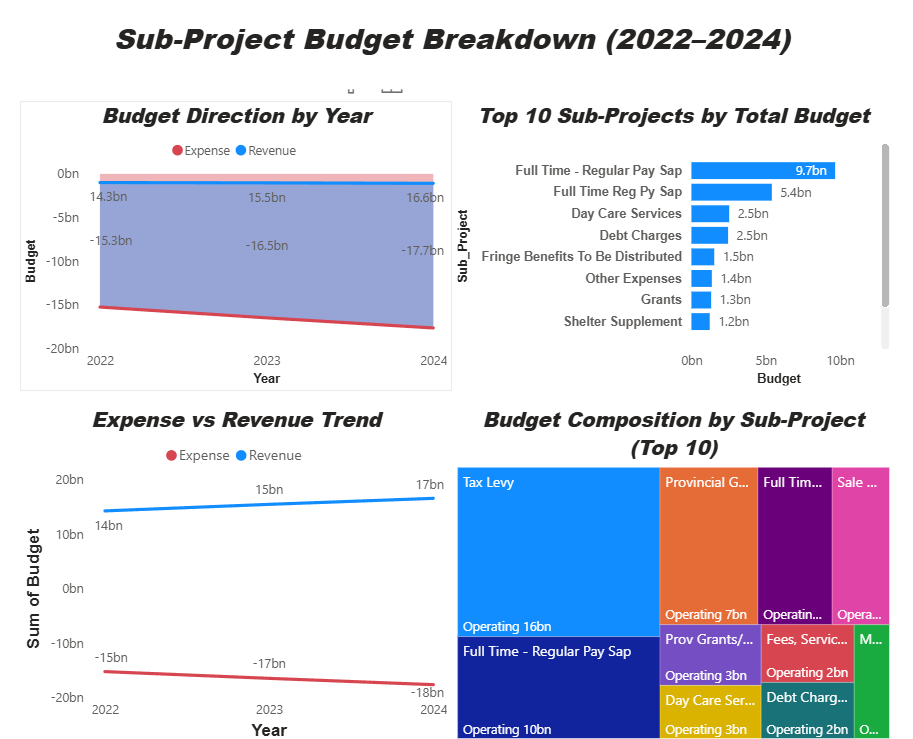

What the dashboard file says about the page in this screenshot:
{"tool":"powerbi","page":{"name":"Budget by Sub-Project","canvas":[1280,720],"ordinal":1},"visuals":[{"type":"stackedAreaChart","title":"Budget Direction by Year","fields":{"Category":["Combined_Budget_Table.Year"],"Y":["Sum(Combined_Budget_Table.Budget)"],"Series":["Combined_Budget_Table.Budget_Direction"]},"box":[210.2,110.8,409,274.1],"z":0},{"type":"lineChart","title":"Expense vs Revenue Trend","fields":{"Y":["Sum(Combined_Budget_Table.Budget)"],"Category":["Combined_Budget_Table.Year"],"Series":["Combined_Budget_Table.Budget_Direction"]},"box":[210.2,399.1,409,320.9],"z":1000},{"type":"treemap","title":"Budget Composition by Sub-Project (Top 10)","fields":{"Details":["Combined_Budget_Table.Budget_Type"],"Values":["Combined_Budget_Table.Budget_Positive"],"Group":["Combined_Budget_Table.Sub_Project_Combined"]},"box":[619.2,399.1,418.9,320.9],"z":3000},{"type":"textbox","box":[180.4,27,877.6,72.4],"z":4000},{"type":"barChart","title":"Top 10 Sub-Projects by Total Budget","fields":{"Y":["Sum(Combined_Budget_Table.Budget)"],"Category":["Combined_Budget_Table.Sub_Project_Combined"]},"box":[619.2,110.8,418.9,274.1],"z":4001}]}

Visuals, with their boxes on the page's 1280x720 design canvas (x1, y1, x2, y2). These are canvas units, not pixel positions in the 913x739 screenshot, which may show the page scaled, cropped or inside an application window:
"Budget Direction by Year" stackedAreaChart: 210/111/619/385
"Expense vs Revenue Trend" lineChart: 210/399/619/720
"Budget Composition by Sub-Project (Top 10)" treemap: 619/399/1038/720
textbox: 180/27/1058/99
"Top 10 Sub-Projects by Total Budget" barChart: 619/111/1038/385
